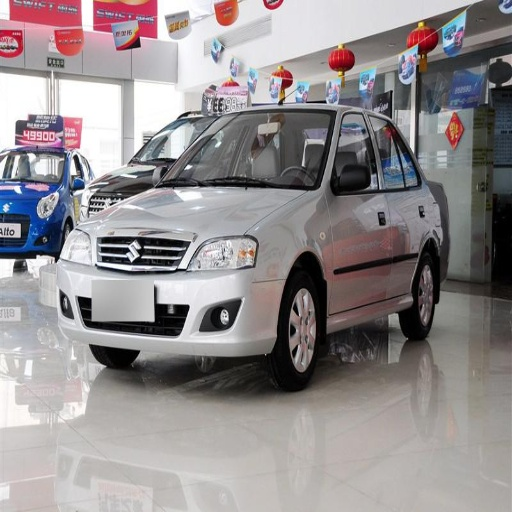front_bumper: (57, 228, 286, 355)
front_glass: (152, 111, 333, 189)
front_left_door: (329, 114, 388, 315)
